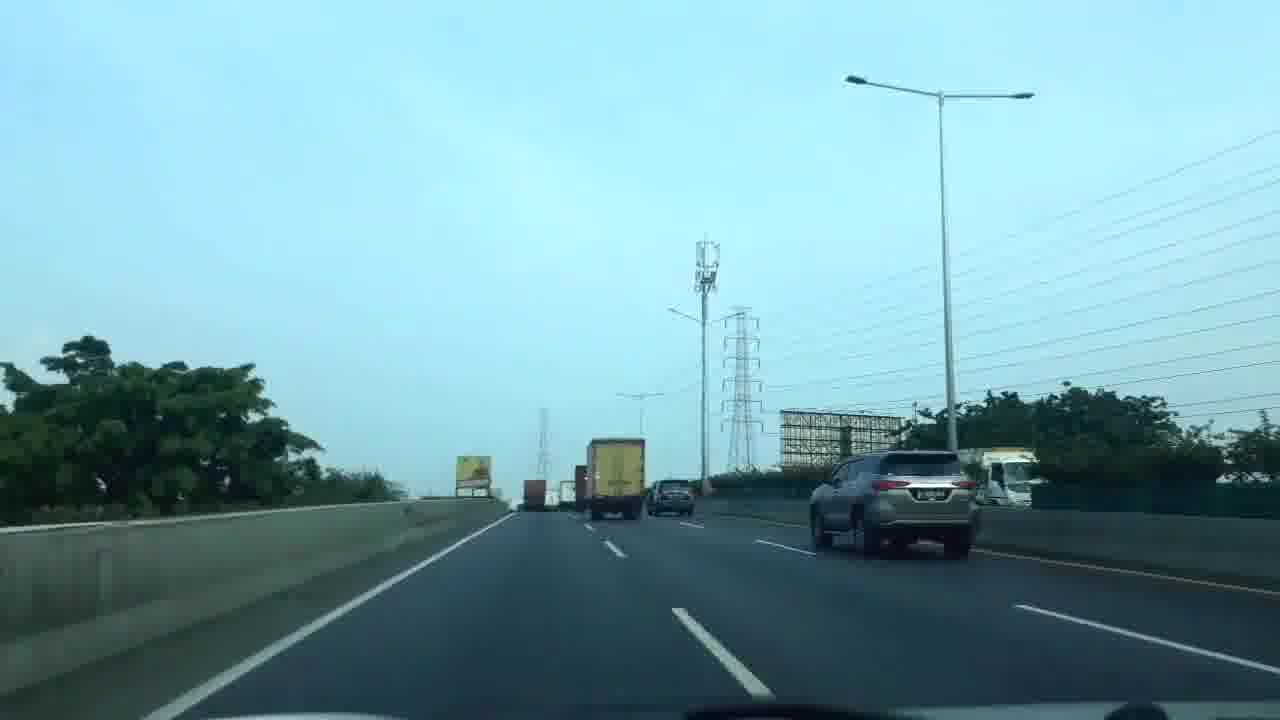plate_positive: (916, 488, 946, 500)
